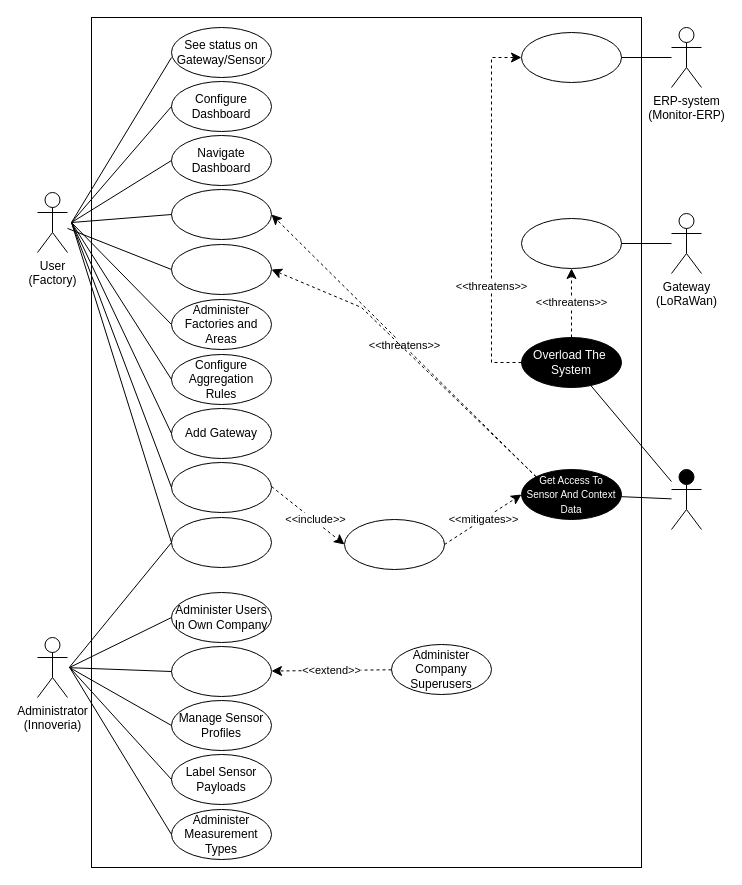
This 742x885 diagram has some shape labels left out. The box of each missing label's shape, as (x1, y1, x2, y2) in pixels:
Add Sensor: (170, 462, 272, 512)
Administer Companies: (170, 646, 272, 696)
Attacker: (670, 468, 702, 530)
Authenticate User: (344, 518, 444, 570)
Get Production-data: (520, 32, 622, 82)
Log In: (170, 516, 272, 568)
Receive Sensor-data: (520, 218, 622, 268)
See Context Data: (170, 244, 272, 294)
See Sensor Data: (170, 188, 272, 240)
